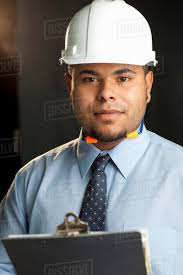Person_wearing_helmet: (52, 0, 156, 89)
